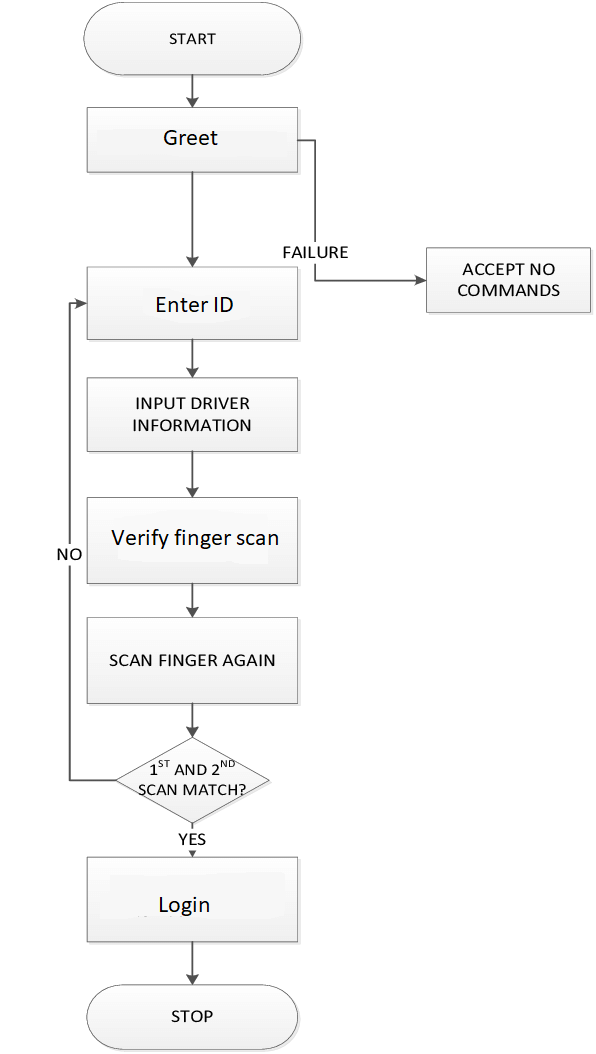arrow: (64, 295, 150, 788), (295, 135, 427, 288), (182, 166, 204, 269), (185, 935, 204, 987), (183, 448, 203, 496), (185, 699, 206, 741), (182, 578, 203, 619), (180, 335, 200, 378), (185, 819, 204, 862), (185, 72, 201, 108)
process: (82, 491, 306, 593), (79, 611, 306, 709), (80, 853, 304, 945), (82, 261, 306, 346), (82, 372, 303, 458), (80, 101, 300, 177), (420, 241, 596, 320)
terminator: (79, 3, 306, 80), (80, 978, 307, 1054), (109, 737, 275, 828)
text: (132, 393, 256, 437), (106, 525, 283, 553), (138, 758, 254, 799), (451, 259, 564, 301), (103, 648, 277, 669), (153, 293, 235, 314), (153, 893, 211, 920), (159, 124, 222, 148), (277, 243, 351, 262), (162, 25, 217, 49), (167, 1004, 217, 1027), (53, 543, 87, 566), (174, 828, 212, 846)
